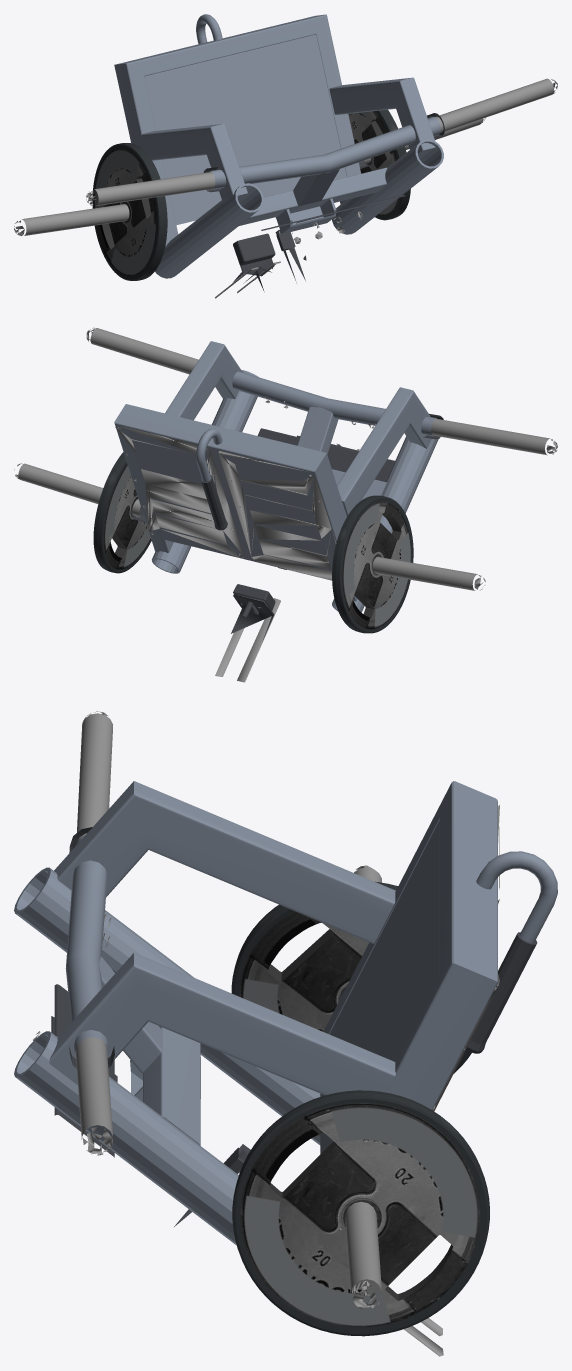
The model's file is linear-leg-press-sled-neon.glb.
The picture shows the model from 3 angles, top to bottom: view 1: azimuth 30°, elevation 25°; view 2: azimuth 150°, elevation 25°; view 3: azimuth 270°, elevation 25°; orthographic projection. The views are drawn at different scales.
Parts seen in each view (by area): view 1: Mesh_5_sled, Mesh_7_sled, Mesh_1_sled, Mesh_0_sled, Mesh_4_sled, Mesh_3_sled; view 2: Mesh_5_sled, Mesh_1_sled, Mesh_7_sled, Mesh_4_sled, Mesh_0_sled, Mesh_3_sled; view 3: Mesh_5_sled, Mesh_7_sled, Mesh_1_sled, Mesh_0_sled, Mesh_3_sled, Mesh_4_sled.
Boxes of the visible parts, x1=… form: Mesh_5_sled: x1=114, y1=14, x2=443, y2=278; Mesh_7_sled: x1=92, y1=109, x2=410, y2=280; Mesh_1_sled: x1=14, y1=78, x2=557, y2=298; Mesh_0_sled: x1=203, y1=113, x2=444, y2=265; Mesh_4_sled: x1=233, y1=195, x2=405, y2=291; Mesh_3_sled: x1=102, y1=119, x2=390, y2=249; Mesh_5_sled: x1=114, y1=341, x2=438, y2=612; Mesh_1_sled: x1=14, y1=327, x2=557, y2=682; Mesh_7_sled: x1=93, y1=452, x2=413, y2=633; Mesh_4_sled: x1=231, y1=428, x2=394, y2=639; Mesh_0_sled: x1=130, y1=414, x2=443, y2=610; Mesh_3_sled: x1=112, y1=513, x2=401, y2=617; Mesh_5_sled: x1=14, y1=781, x2=557, y2=1245; Mesh_7_sled: x1=231, y1=881, x2=489, y2=1336; Mesh_1_sled: x1=33, y1=711, x2=499, y2=1356; Mesh_0_sled: x1=69, y1=827, x2=537, y2=1173; Mesh_3_sled: x1=267, y1=929, x2=452, y2=1300; Mesh_4_sled: x1=51, y1=984, x2=250, y2=1226.
Size of the model in its own units: 1.56 by 0.8402 by 0.8436.
5 materials, 1 textured.
